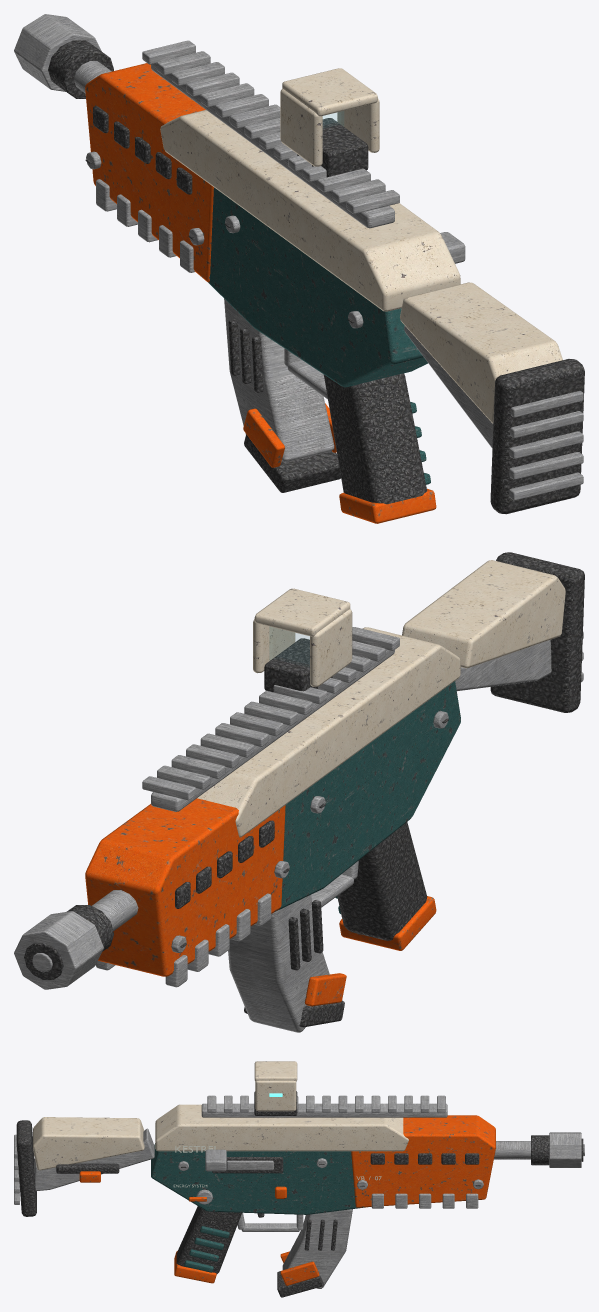
File: kestrel.gltf
3 renders of one model, top to bottom at view 1: azimuth 30°, elevation 25°; view 2: azimuth 150°, elevation 25°; view 3: azimuth 270°, elevation 25°, orthographic. The views are drawn at different scales.
Visible parts, largest first — view 1: body, mag, factory-optic; view 2: body, mag, factory-optic; view 3: body, mag, factory-optic, bolt.
Part boxes in pixels (left/top/right/bottom): body: left=14, top=14, right=584, bottom=523; mag: left=224, top=298, right=340, bottom=492; factory-optic: left=280, top=68, right=379, bottom=177; body: left=14, top=552, right=584, bottom=989; mag: left=228, top=895, right=346, bottom=1032; factory-optic: left=253, top=588, right=352, bottom=692; body: left=14, top=1095, right=584, bottom=1283; mag: left=277, top=1209, right=352, bottom=1297; factory-optic: left=254, top=1061, right=297, bottom=1115; bolt: left=205, top=1149, right=273, bottom=1171.
Size of the model in its own units: 0.1192 by 0.3338 by 0.7698.
Materials: 8 (5 with a texture image).
